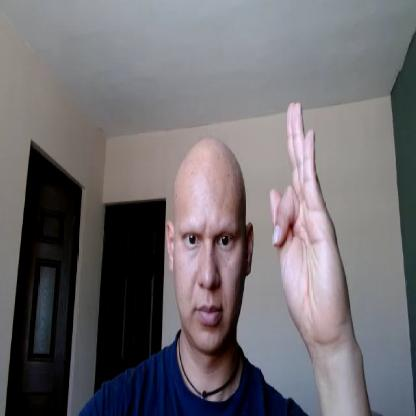F: (269, 98, 349, 345)
